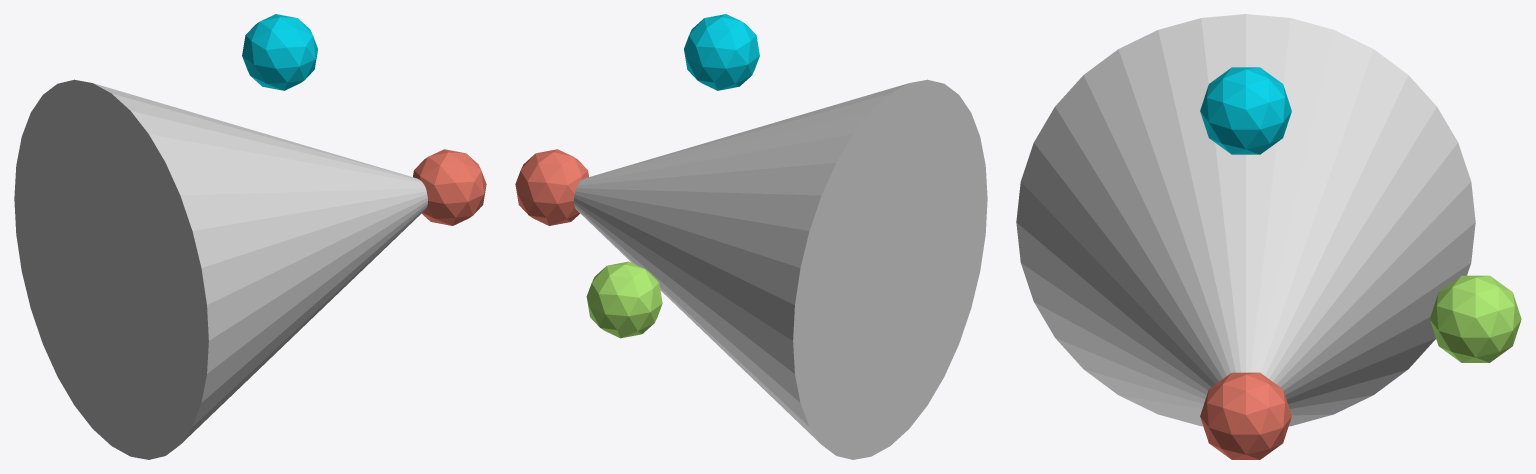
File: axesSpheresCone.gltf
3 renders of one model, left to right at view 1: azimuth 30°, elevation 25°; view 2: azimuth 150°, elevation 25°; view 3: azimuth 270°, elevation 25°, orthographic. The views are drawn at different scales.
Visible parts, largest first — view 1: Cone, Icosphere.002, Icosphere.001; view 2: Cone, Icosphere, Icosphere.002, Icosphere.001; view 3: Cone, Icosphere.002, Icosphere.001, Icosphere.
Boxes of the visible parts, bbox=[...] form: Cone: bbox=[14, 79, 427, 459]; Icosphere.002: bbox=[242, 14, 317, 90]; Icosphere.001: bbox=[413, 149, 486, 225]; Cone: bbox=[574, 79, 987, 459]; Icosphere: bbox=[586, 261, 662, 338]; Icosphere.002: bbox=[684, 14, 759, 90]; Icosphere.001: bbox=[515, 149, 588, 225]; Cone: bbox=[1016, 14, 1475, 426]; Icosphere.002: bbox=[1200, 67, 1291, 154]; Icosphere.001: bbox=[1200, 372, 1291, 459]; Icosphere: bbox=[1430, 275, 1521, 362].
Size of the model in its own units: 10.95 by 11 by 11.
